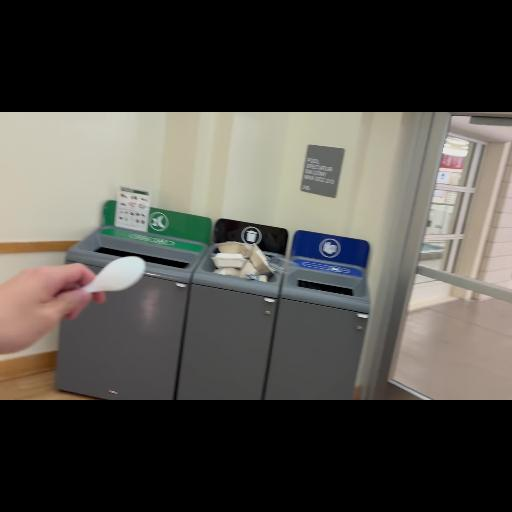utensil: (35, 254, 155, 306)
